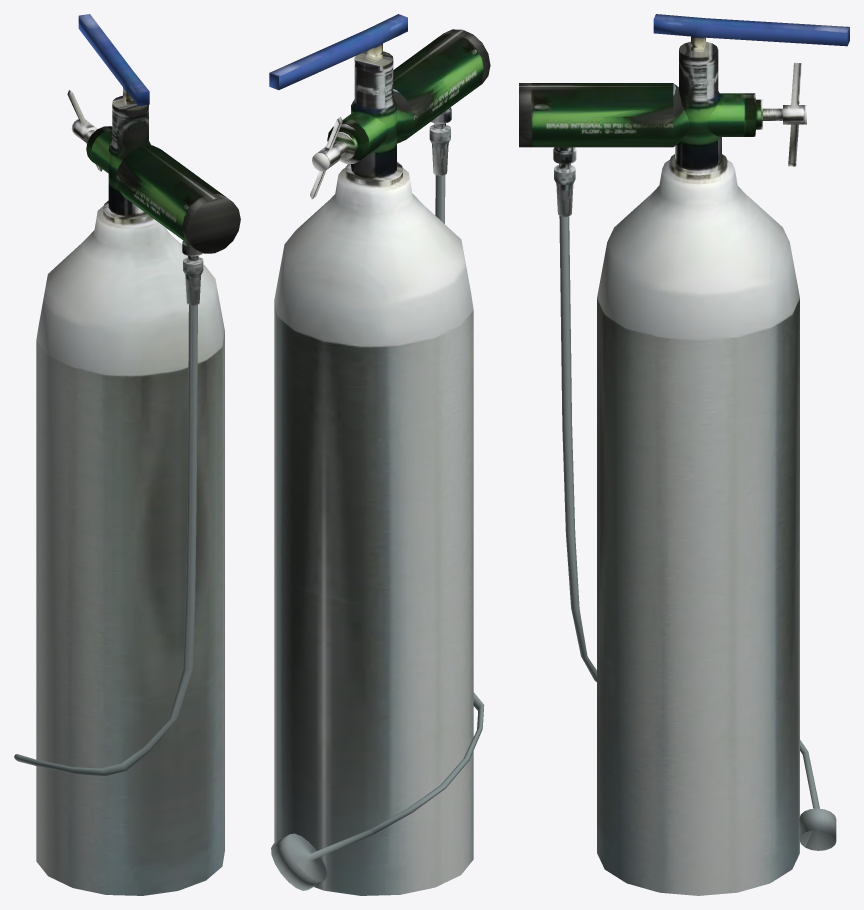
Rendered from oxygen_containter.fbx.
The picture shows the model from 3 angles, left to right: view 1: azimuth 30°, elevation 25°; view 2: azimuth 150°, elevation 25°; view 3: azimuth 270°, elevation 25°; orthographic projection. The views are drawn at different scales.
Parts seen in each view (by area): view 1: Cylinder; view 2: Cylinder; view 3: Cylinder.
Boxes of the visible parts, x1,y1,x2,y2 form: Cylinder: [14, 14, 240, 895]; Cylinder: [269, 14, 490, 895]; Cylinder: [519, 14, 849, 895].
Bounding box in the file's own units: 71.18 × 305 × 109.
1 material, 1 textured.
